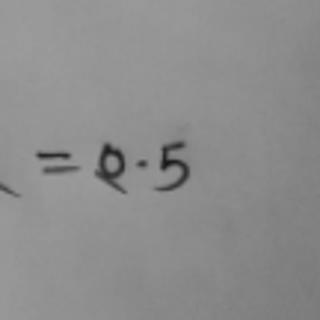.: (133, 154, 150, 172)
2: (94, 142, 128, 194)
5: (159, 142, 190, 192)
